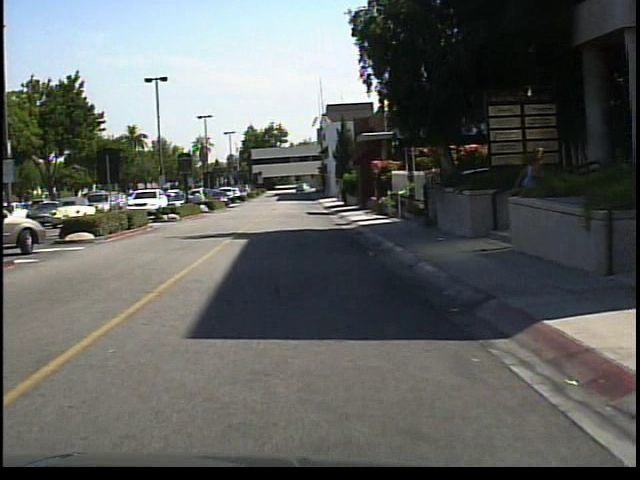person: (516, 137, 553, 244)
